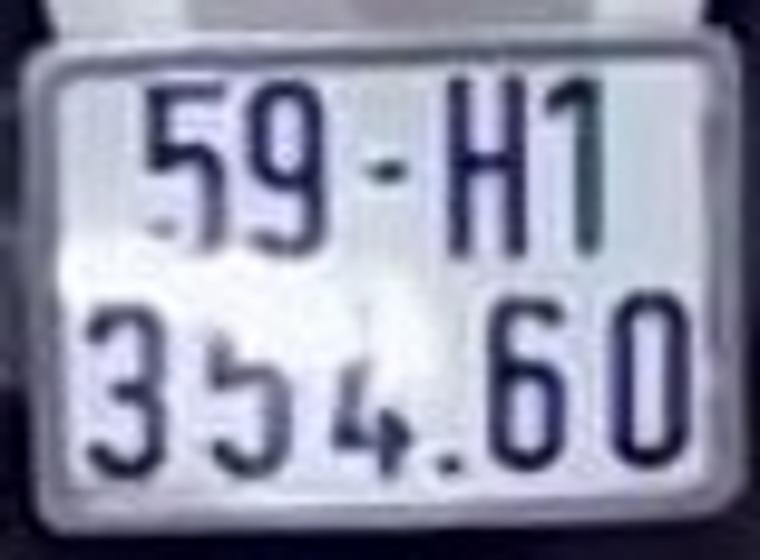-: (359, 151, 412, 186)
.: (435, 451, 466, 475)
0: (608, 288, 693, 471)
1: (546, 64, 610, 261)
3: (81, 296, 167, 480)
4: (328, 290, 414, 488)
5: (202, 291, 295, 474), (143, 83, 226, 264)
6: (483, 292, 569, 477)
9: (244, 79, 325, 263)
H: (441, 71, 532, 264)
